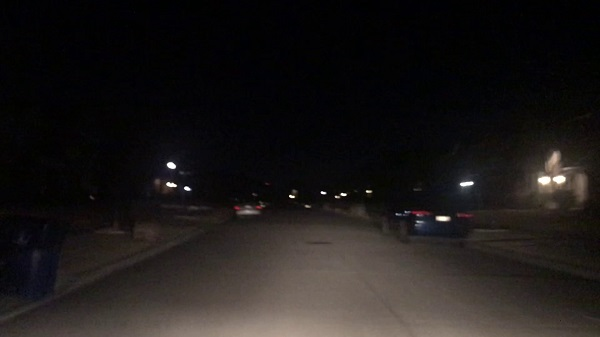car: (381, 189, 476, 246), (229, 189, 266, 218)
